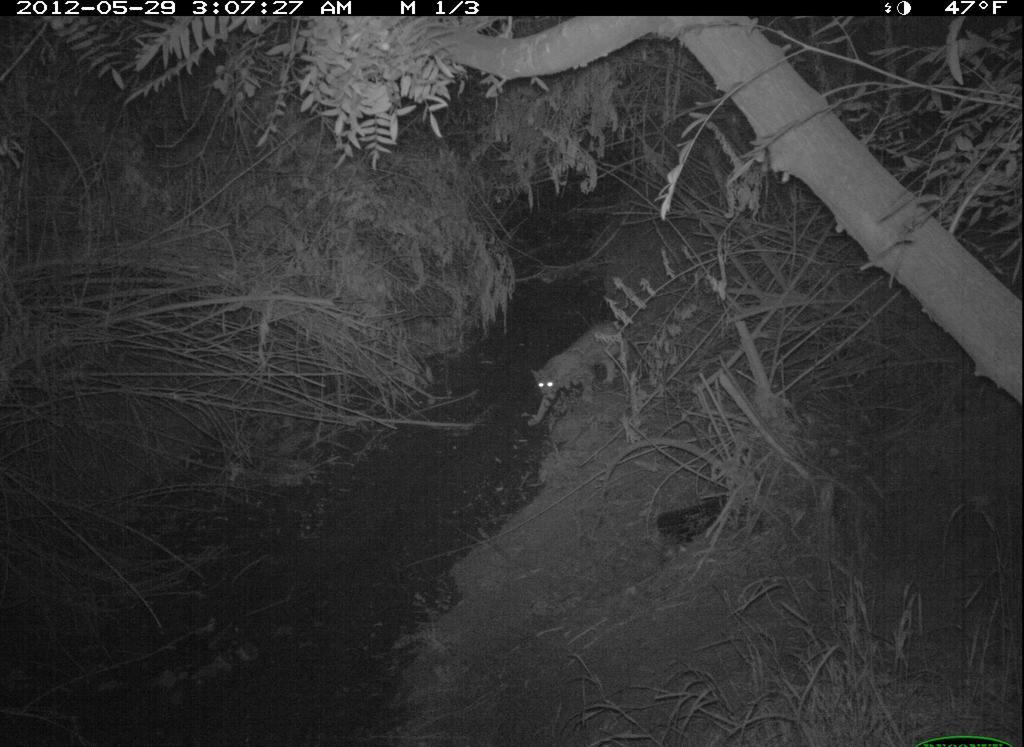bobcat: (530, 318, 637, 431)
